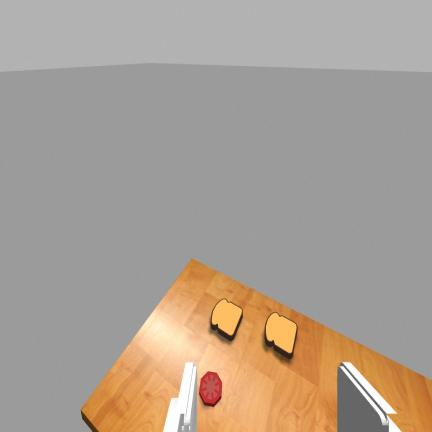sliced_bread: (265, 312, 297, 358), (211, 298, 242, 340)
sliced_tomato: (199, 371, 222, 406)
